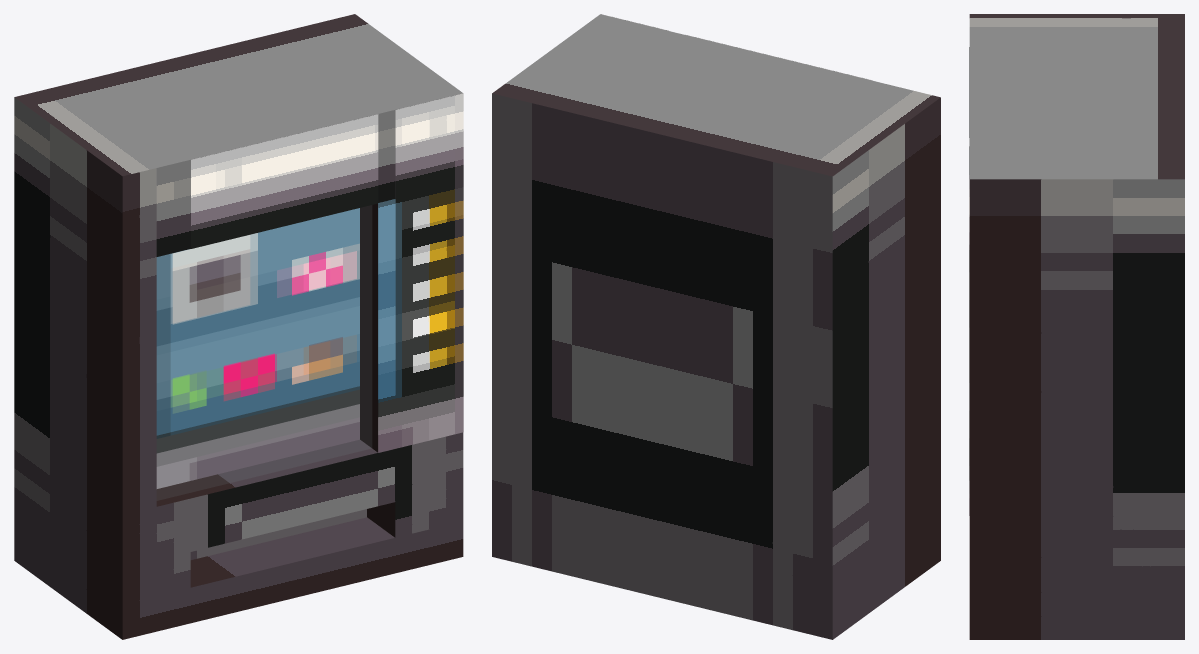
File: vending_generic.glb
3 renders of one model, left to right at view 1: azimuth 30°, elevation 25°; view 2: azimuth 150°, elevation 25°; view 3: azimuth 270°, elevation 25°, orthographic.
Visible parts, largest first — view 1: vending_generic_Cabinet, vending_generic, vending_generic_Display_Glass, vending_generic_Delivery_Flap; view 2: vending_generic_Cabinet; view 3: vending_generic_Cabinet, vending_generic.
Part boxes in pixels (x1,y1,x2,y2): vending_generic_Cabinet: (14, 14, 463, 639); vending_generic: (156, 93, 463, 488); vending_generic_Display_Glass: (157, 206, 371, 499); vending_generic_Delivery_Flap: (190, 509, 366, 559); vending_generic_Cabinet: (492, 14, 940, 639); vending_generic_Cabinet: (969, 14, 1184, 639); vending_generic: (969, 47, 969, 515).
Bounding box in the file's own units: 1.2 × 1.56 × 0.662.
4 materials, 3 textured.
